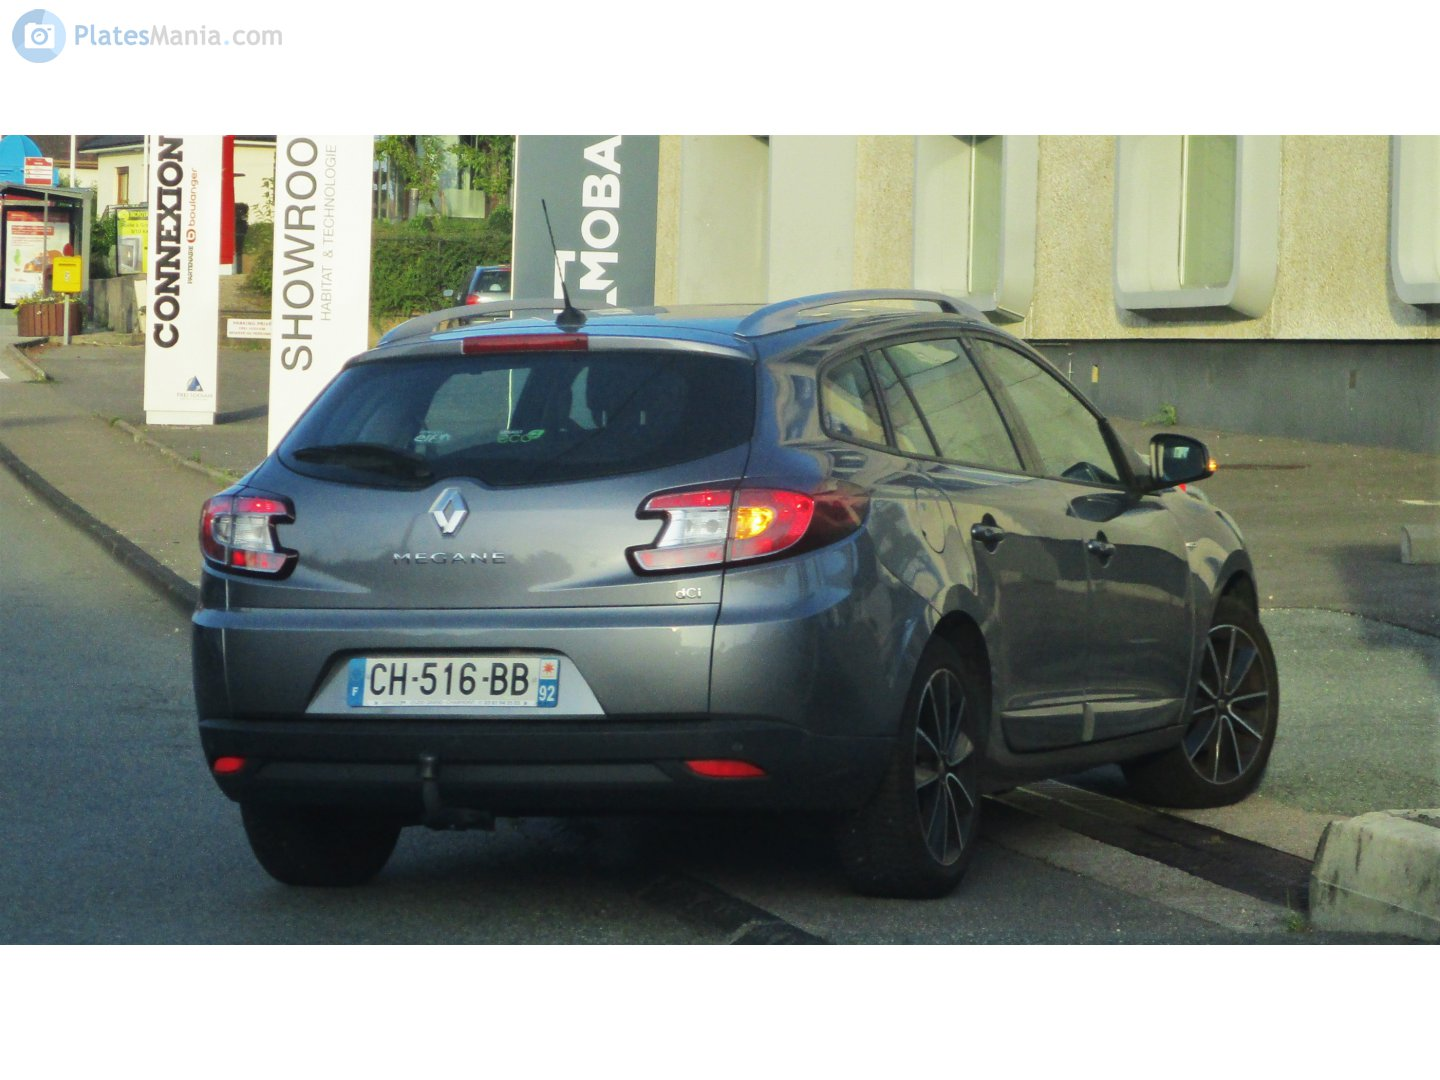licence plate: (343, 655, 568, 712)
